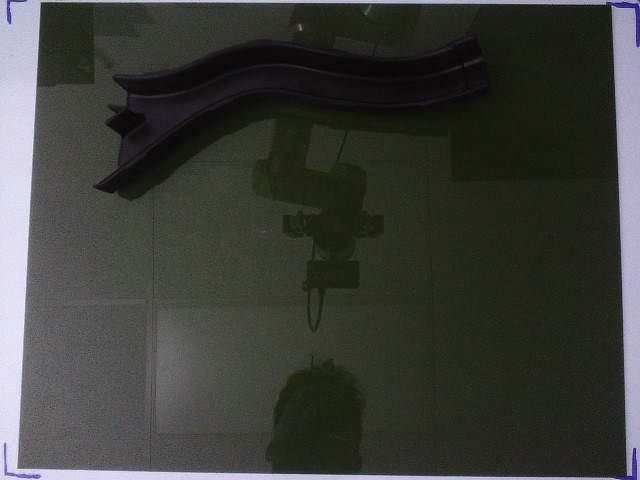887_B-Under: (95, 36, 488, 190)
